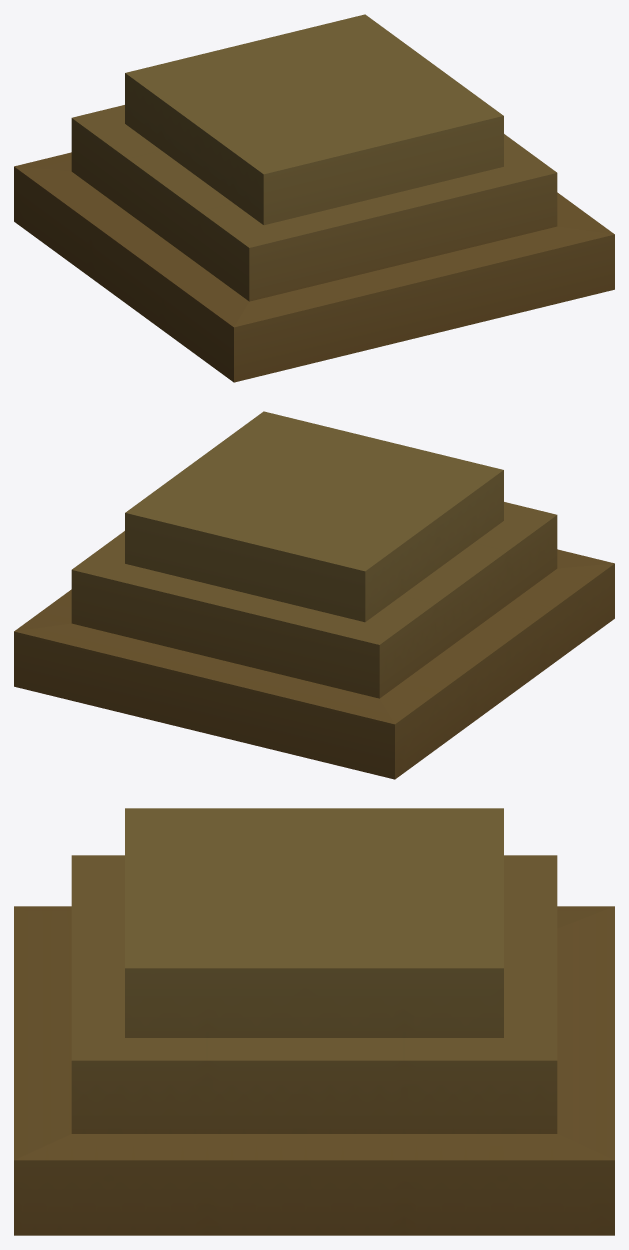
Rendered from SM_UnderPillar1.fbx.
3 renders of one model, top to bottom at view 1: azimuth 30°, elevation 25°; view 2: azimuth 150°, elevation 25°; view 3: azimuth 270°, elevation 25°, orthographic. The views are drawn at different scales.
Parts seen in each view (by area): view 1: SM_UnderPillar1; view 2: SM_UnderPillar1; view 3: SM_UnderPillar1.
Part boxes in pixels (x1=…): SM_UnderPillar1: x1=14, y1=14, x2=614, y2=382; SM_UnderPillar1: x1=14, y1=411, x2=614, y2=779; SM_UnderPillar1: x1=14, y1=808, x2=614, y2=1235.
Size of the model in its own units: 369 by 149 by 369.
